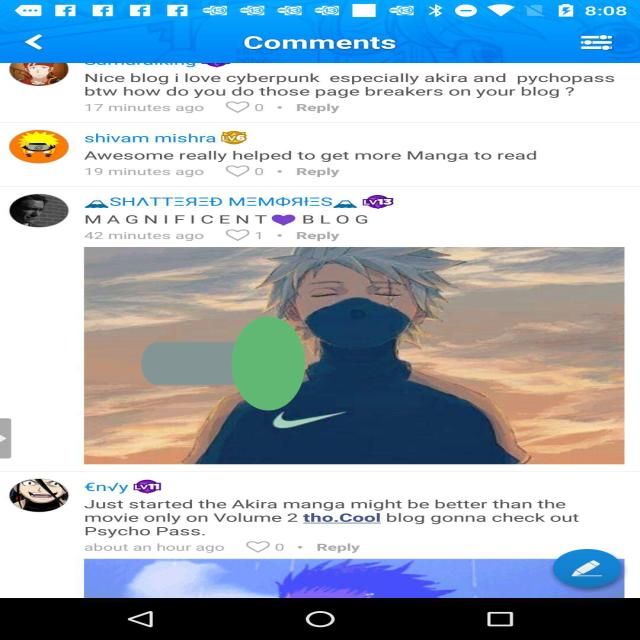social proof: (141, 259, 305, 468)
